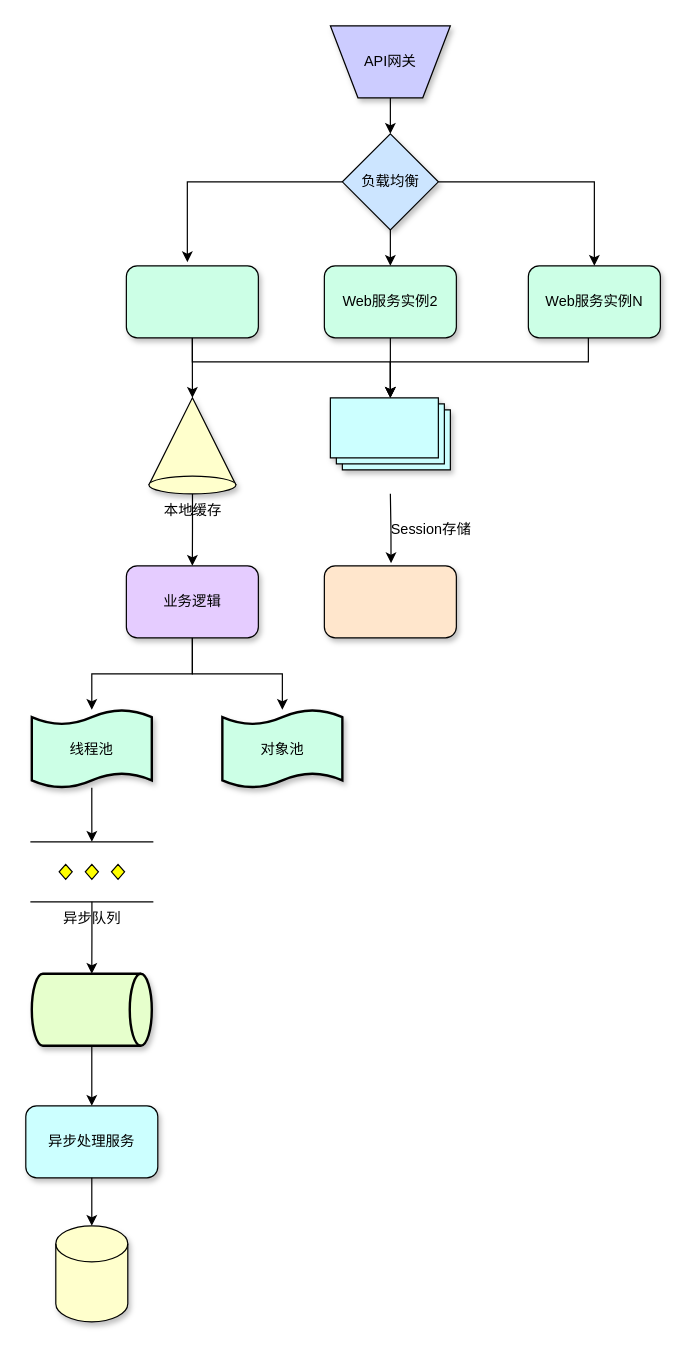
This 689x1351 diagram has some shape labels left out. Each missing label, with the centre of its shape:
"Kafka" goes at point 92,1011.
"MySQL" goes at point 92,1275.
"Redis集群" goes at point 391,435.
"Web服务实例1" goes at point 193,303.
"用户状态" goes at point 391,603.
